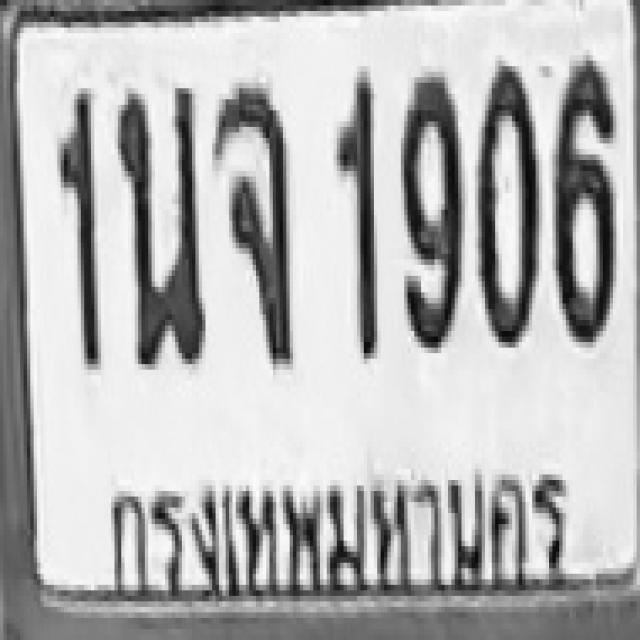0: (475, 58, 539, 345)
1: (333, 69, 378, 361), (56, 85, 100, 367)
17ChorChan: (214, 80, 295, 367)
34NorNu: (114, 80, 206, 367)
6: (550, 55, 614, 342)
9: (399, 69, 463, 350)
Bangkok: (96, 456, 566, 601)
